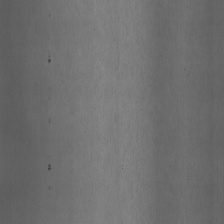oil_spot: (45, 158, 52, 175), (47, 48, 53, 66), (47, 185, 52, 192)
